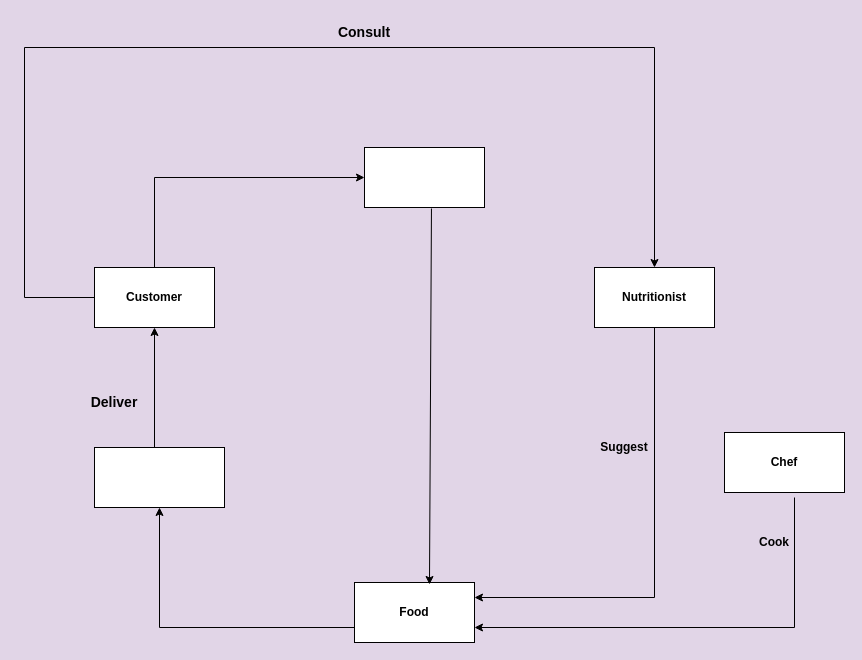
Some shapes in this 862 by 660 pixel diagram are drawn without their labels. Each missing label, with the box of its shape:
Delivery_Man: (94, 446, 224, 508)
Order: (364, 146, 484, 208)
